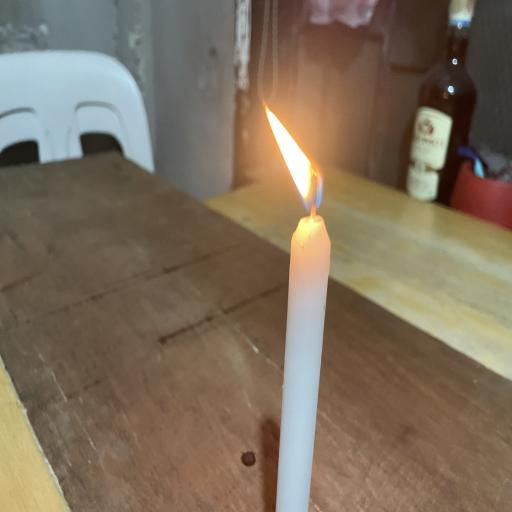fire: (253, 100, 348, 252)
